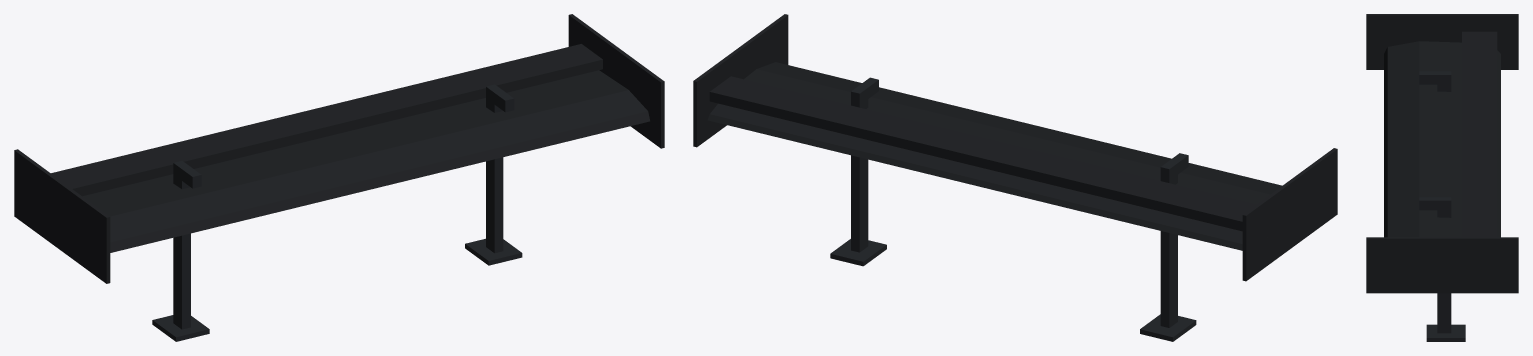
File: wing_gt.glb
3 views of the same model, side by side, from view 1: azimuth 30°, elevation 25°; view 2: azimuth 150°, elevation 25°; view 3: azimuth 270°, elevation 25° (orthographic). The views are drawn at different scales.
Visible parts, largest first — view 1: wing, end_plates, mounts; view 2: wing, end_plates, mounts; view 3: wing, end_plates, mounts.
Boxes of the visible parts, x1,y1,x2,y2 form: wing: (25, 44, 649, 256); end_plates: (14, 14, 664, 283); mounts: (152, 84, 522, 341); wing: (708, 62, 1323, 250); end_plates: (693, 14, 1337, 281); mounts: (830, 77, 1196, 341); wing: (1384, 31, 1500, 277); end_plates: (1366, 14, 1518, 293); mounts: (1419, 71, 1465, 341).
Size of the model in its own units: 1.5 by 0.4539 by 0.43.
Materials: 2 (1 with a texture image).
